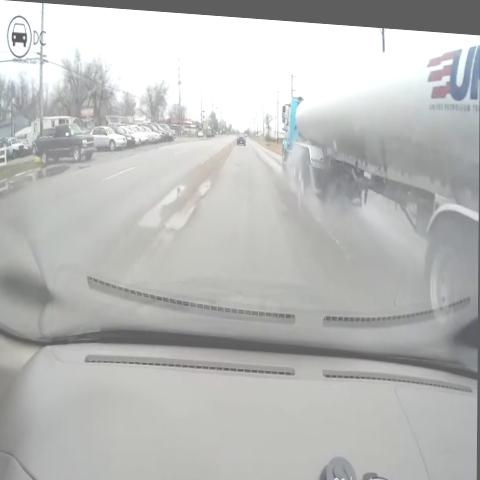pothole: (137, 160, 223, 255), (234, 149, 245, 170)
